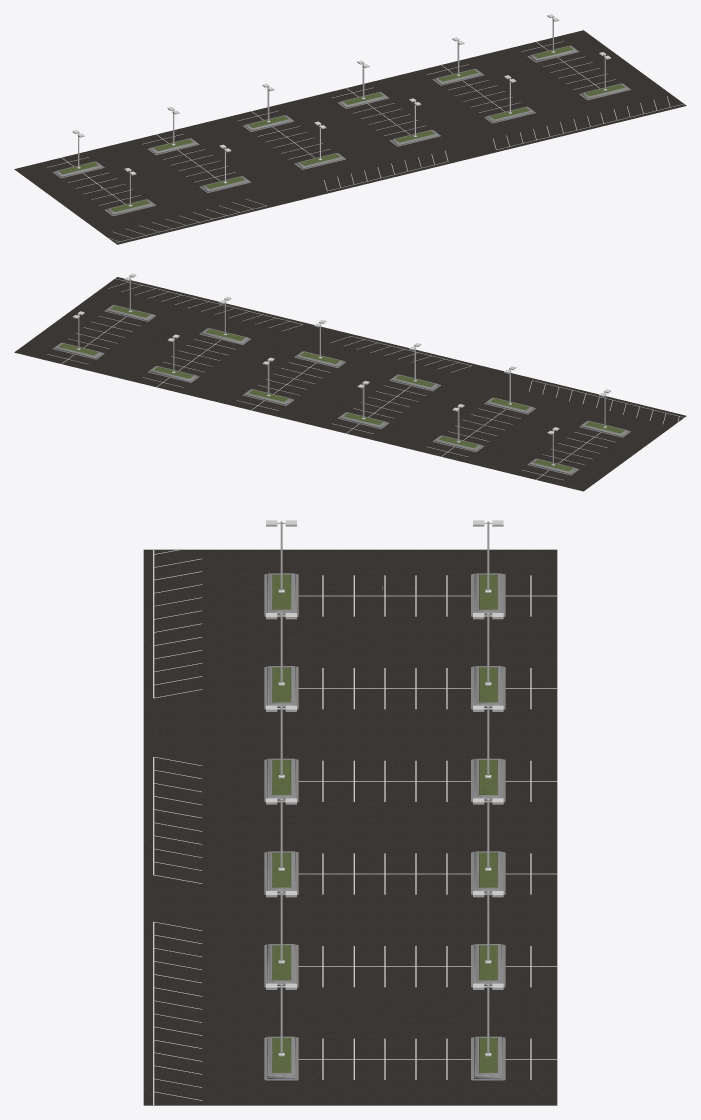
File: envParkingLot.fbx
3 renders of one model, top to bottom at view 1: azimuth 30°, elevation 25°; view 2: azimuth 150°, elevation 25°; view 3: azimuth 270°, elevation 25°, orthographic. The views are drawn at different scales.
Parts seen in each view (by area): view 1: envParkingLot; view 2: envParkingLot; view 3: envParkingLot.
Part boxes in pixels (x1,y1,x2,y2): envParkingLot: (14, 14, 686, 244); envParkingLot: (14, 273, 686, 491); envParkingLot: (143, 520, 557, 1105).
Size of the model in its own units: 12679 by 793 by 3985.
4 materials, 3 textured.
